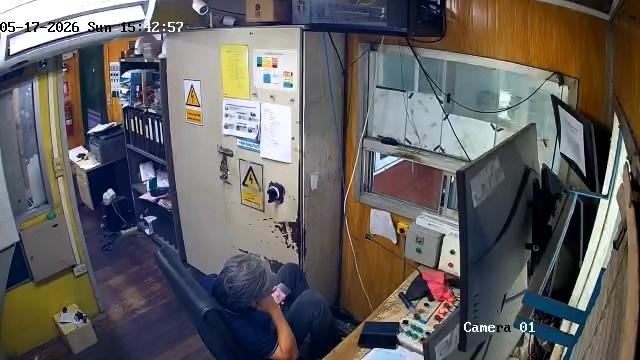Head: (220, 256, 269, 305)
People: (215, 255, 329, 360)
Phone: (357, 333, 398, 349), (270, 282, 293, 306)
